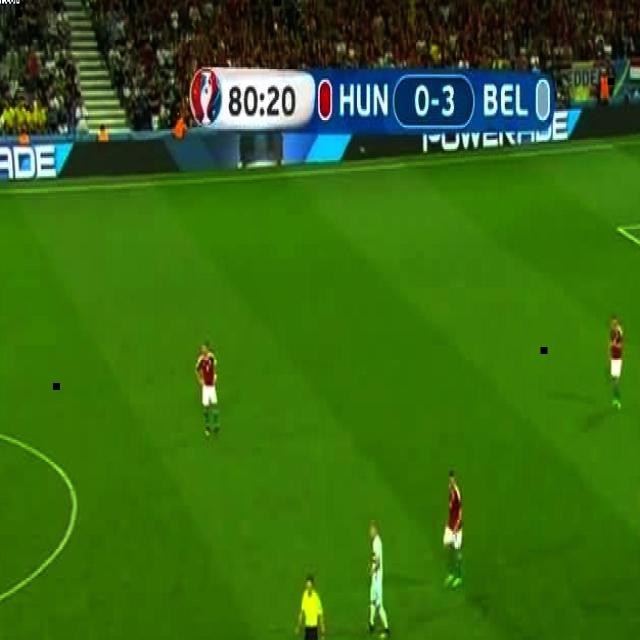player-white: (443, 470, 465, 592), (368, 518, 388, 640), (196, 340, 220, 438), (295, 574, 325, 640), (607, 315, 625, 413)
